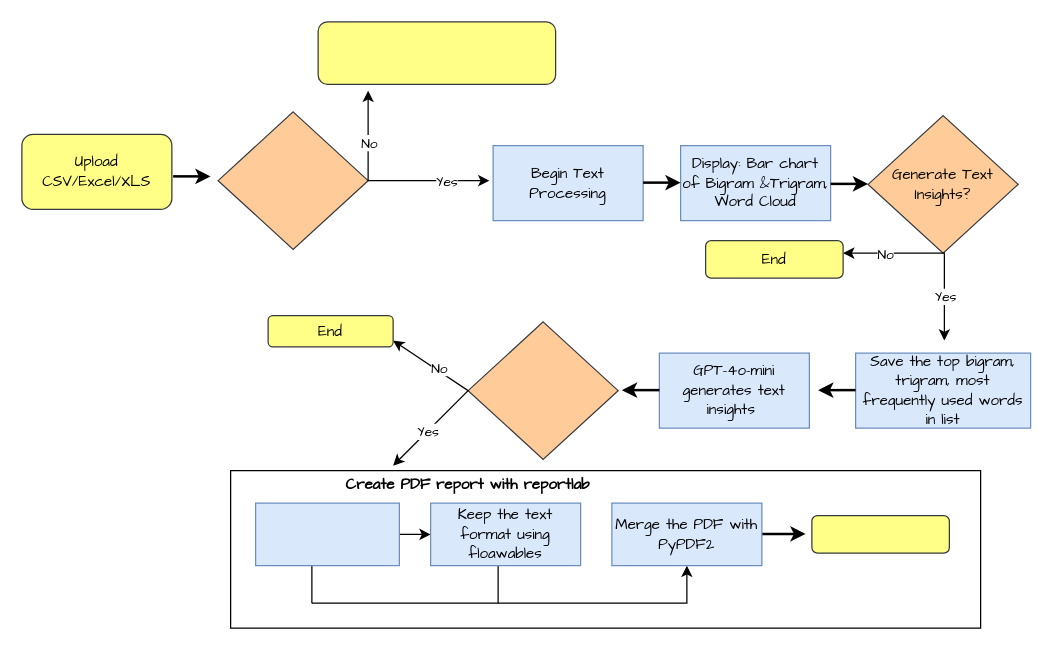
Image size: 1053x650. Some labels were removed from this diagram. The shapes that lost their labels are listed below. From the top down, each one's box as (x1, y1, x2, y2) in pixels, then its label:
(317, 21, 556, 84): Recheck the file manually, ensuring the column is exist
(217, 111, 368, 249): Check the availability of "text" column
(467, 321, 618, 459): Download PDF report?
(254, 502, 399, 566): Convert matplotlib figure to BytesIO object
(811, 514, 949, 553): PDF Report downloaded
